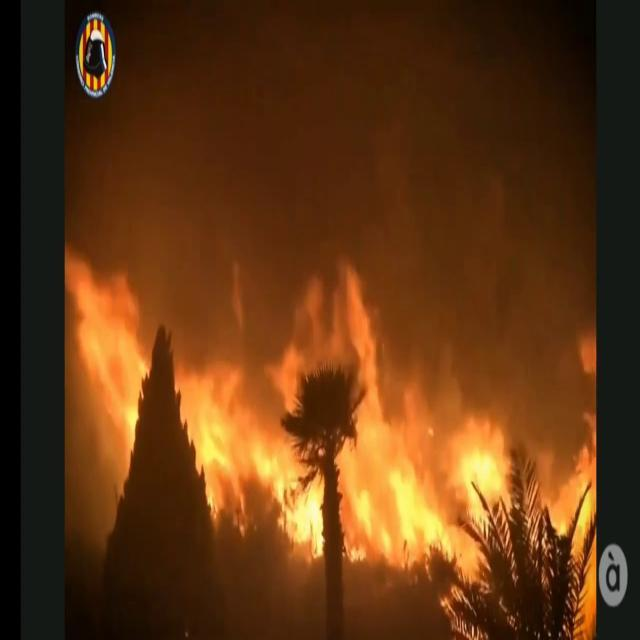Fire: (174, 247, 596, 588), (65, 233, 152, 471)
Smoke: (86, 2, 598, 280)
